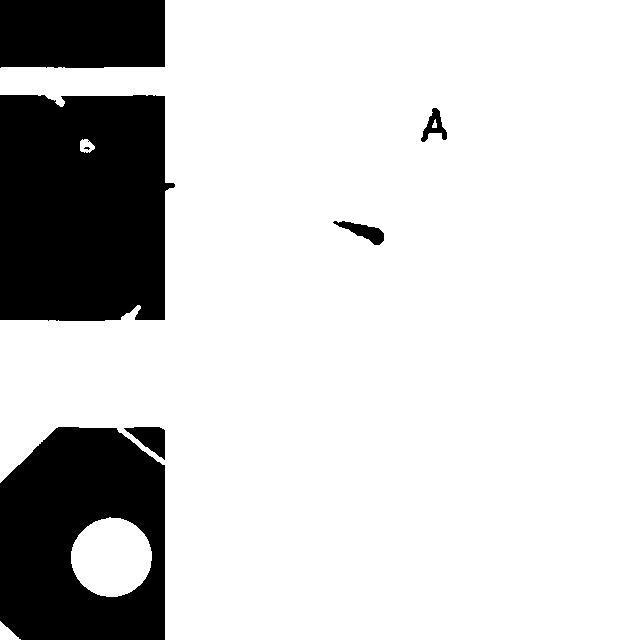copper: (323, 211, 393, 254), (411, 98, 456, 151)
mousebite: (111, 295, 150, 330), (36, 82, 74, 116)
open: (107, 416, 178, 475)
pin-hole: (70, 129, 104, 162)
spur: (152, 173, 184, 200)
